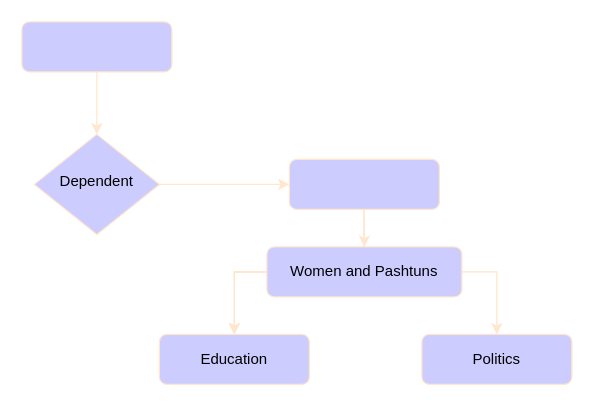
This 594x406 diagram has some shape labels left out. Each missing label, with the centre of its shape:
Agree & Disagree: (363,183)
Gender Ethnic Background: (96,46)
